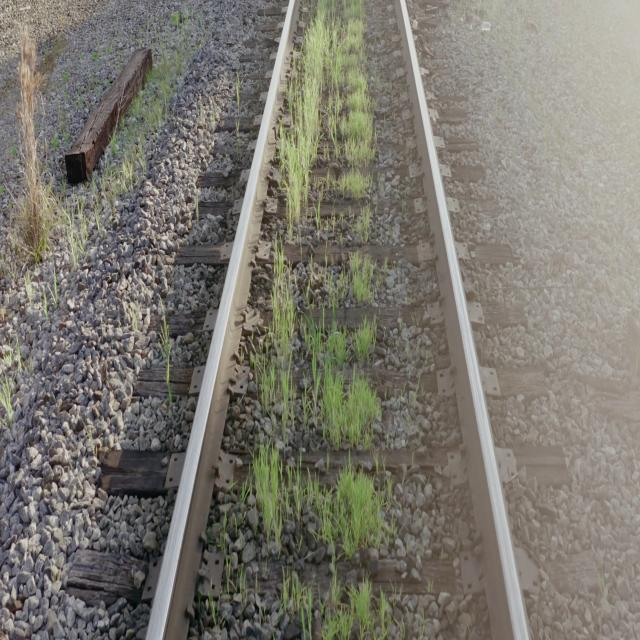Plant: (252, 236, 380, 449), (278, 0, 376, 233), (252, 442, 389, 560), (281, 569, 391, 638), (339, 253, 374, 302), (355, 207, 371, 238), (350, 620, 360, 640)
